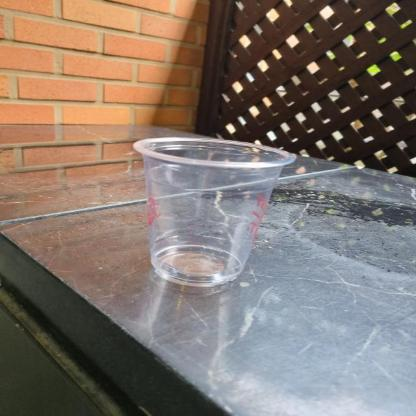Plastic Cup: (132, 136, 296, 286)
